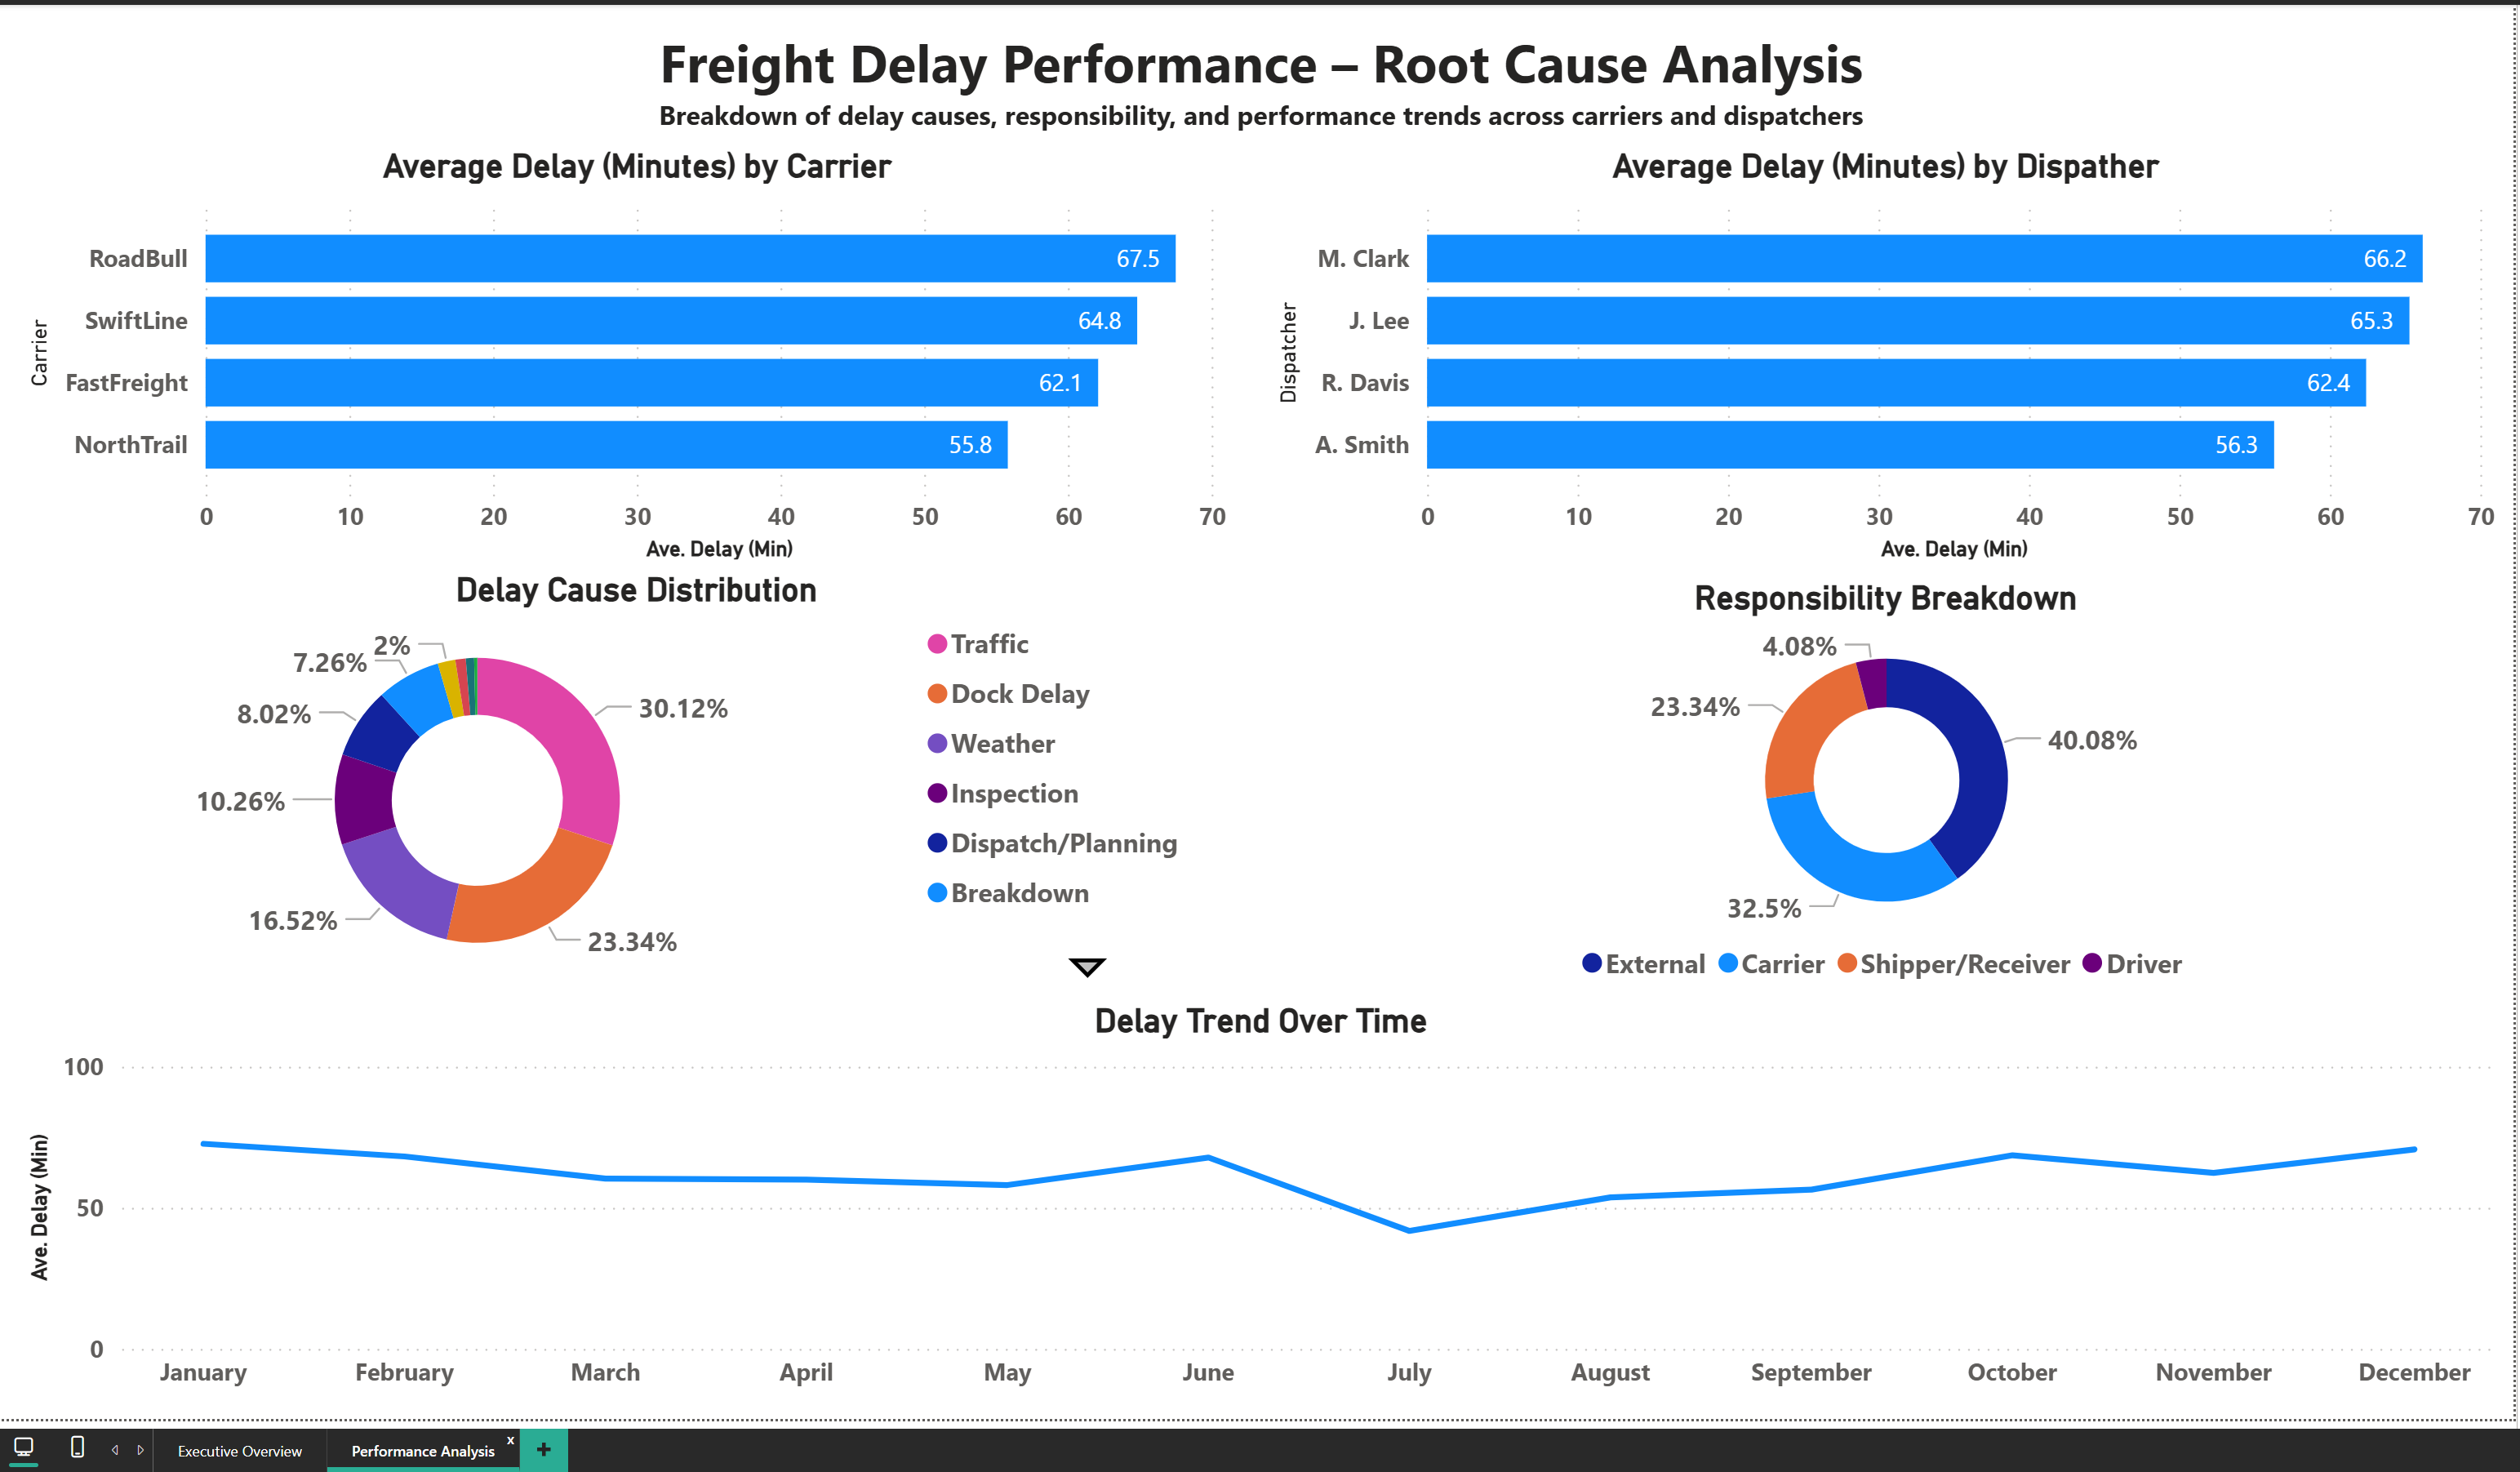

This screenshot's page, from the dashboard's own definition file:
{"tool":"powerbi","page":{"name":"Performance Analysis","canvas":[1280,720],"ordinal":1},"visuals":[{"type":"clusteredBarChart","title":"Average Delay (Minutes) by Carrier","fields":{"Category":["freight_delay_final.Carrier"],"Y":["Avg(freight_delay_final.DelayMinutes)"]},"box":[9.4,71.7,630.4,215.8],"z":0},{"type":"clusteredBarChart","title":"Average Delay (Minutes) by Dispather","fields":{"Category":["freight_delay_final.Dispatcher"],"Y":["Avg(freight_delay_final.DelayMinutes)"]},"box":[645.4,71.7,630,215.8],"z":1000},{"type":"donutChart","title":"Delay Cause Distribution","fields":{"Category":["freight_delay_final.DelayCause"],"Y":["CountNonNull(freight_delay_final.LoadID)"]},"box":[9.4,287.5,629.8,215.1],"z":2000},{"type":"donutChart","title":"Responsibility Breakdown","fields":{"Category":["freight_delay_final.Responsibility"],"Y":["CountNonNull(freight_delay_final.LoadID)"]},"box":[645.4,291.8,630,215.1],"z":3000},{"type":"lineChart","title":"Delay Trend Over Time","fields":{"Y":["Avg(freight_delay_final.DelayMinutes)"],"Category":["freight_delay_final.Date.Variation.Date Hierarchy.Month"]},"box":[9.4,507,1265.8,207],"z":4000},{"type":"textbox","box":[9.4,5.6,1265.8,66.1],"z":5000}]}

Visuals, with their boxes on the page's 1280x720 design canvas (x1, y1, x2, y2). These are canvas units, not pixel positions in the 2520x1472 screenshot, which may show the page scaled, cropped or inside an application window:
"Average Delay (Minutes) by Carrier" clusteredBarChart: x1=9 y1=72 x2=640 y2=288
"Average Delay (Minutes) by Dispather" clusteredBarChart: x1=645 y1=72 x2=1275 y2=288
"Delay Cause Distribution" donutChart: x1=9 y1=288 x2=639 y2=503
"Responsibility Breakdown" donutChart: x1=645 y1=292 x2=1275 y2=507
"Delay Trend Over Time" lineChart: x1=9 y1=507 x2=1275 y2=714
textbox: x1=9 y1=6 x2=1275 y2=72
